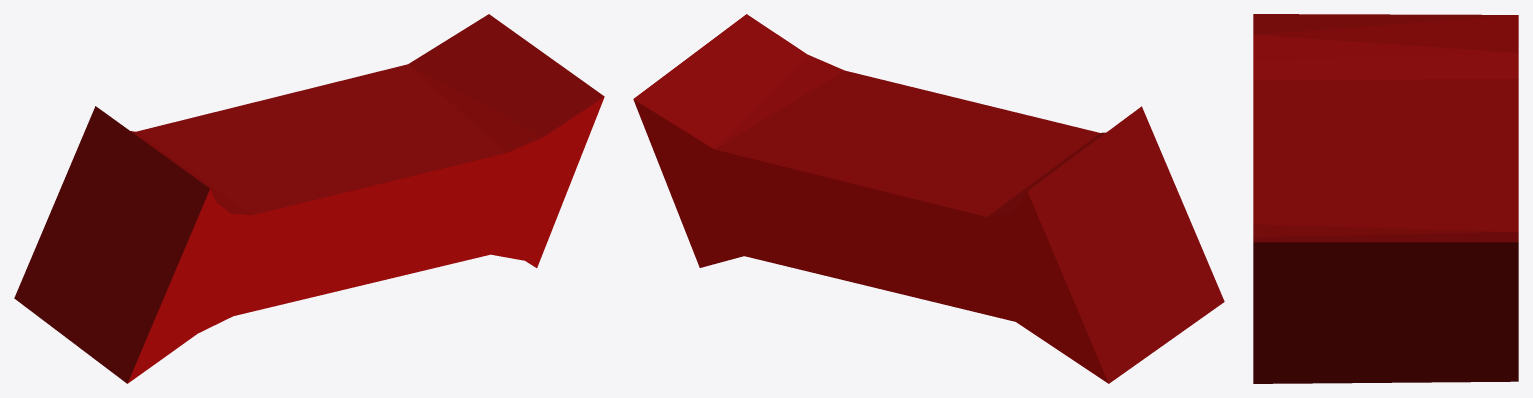
3 renders of one model, left to right at view 1: azimuth 30°, elevation 25°; view 2: azimuth 150°, elevation 25°; view 3: azimuth 270°, elevation 25°, orthographic. The views are drawn at different scales.
Visible parts, largest first — view 1: -; view 2: -; view 3: -.
Part boxes in pixels (x1,y1,x2,y2): -: (14,14,604,383); -: (633,14,1224,383); -: (1253,14,1518,383).
Bounding box in the file's own units: 24.07 × 8.44 × 10.
